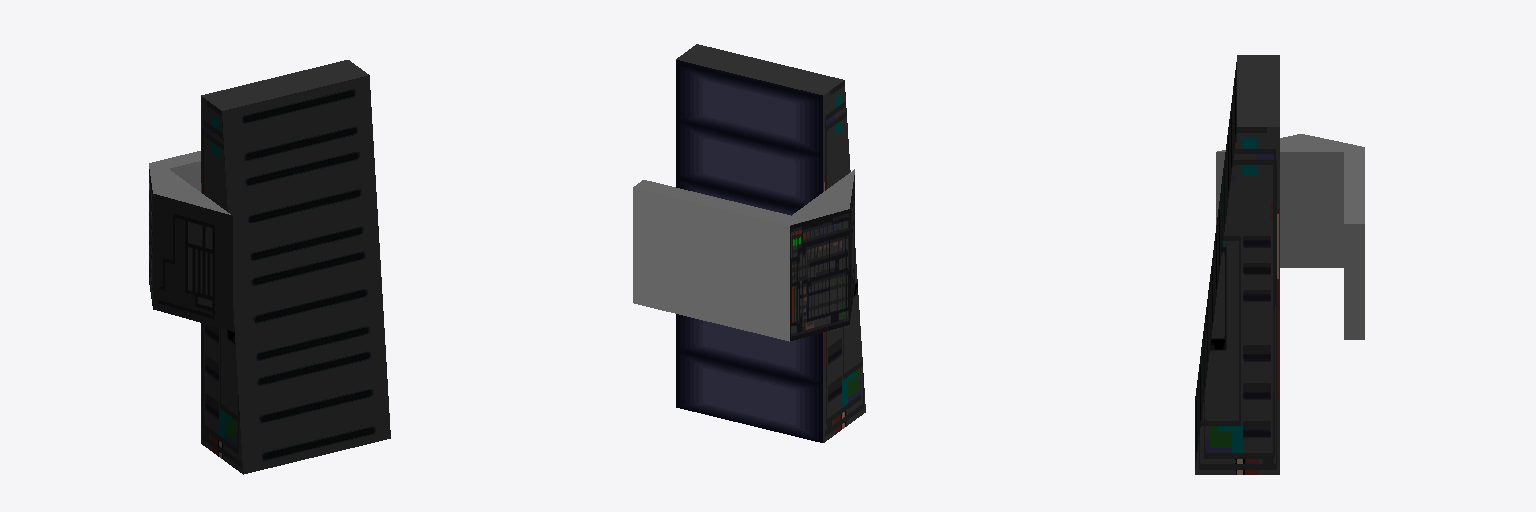
3 views of the same model, side by side, from view 1: azimuth 30°, elevation 25°; view 2: azimuth 150°, elevation 25°; view 3: azimuth 270°, elevation 25° (orthographic).
Parts seen in each view (by area): view 1: entity0_brush0, entity0_brush1, entity0_brush2; view 2: entity0_brush0, entity0_brush2, entity0_brush1; view 3: entity0_brush0, entity0_brush1, entity0_brush2.
Boxes of the visible parts, x1,y1,x2,y2 form: entity0_brush0: [201, 60, 390, 474]; entity0_brush1: [149, 161, 232, 331]; entity0_brush2: [159, 151, 200, 191]; entity0_brush0: [676, 44, 865, 442]; entity0_brush2: [633, 180, 790, 338]; entity0_brush1: [781, 169, 854, 341]; entity0_brush0: [1195, 55, 1279, 474]; entity0_brush1: [1216, 134, 1364, 267]; entity0_brush2: [1344, 152, 1364, 339].
Bounding box in the file's own units: 40 × 72 × 32.
Materials: 7 (6 with a texture image).